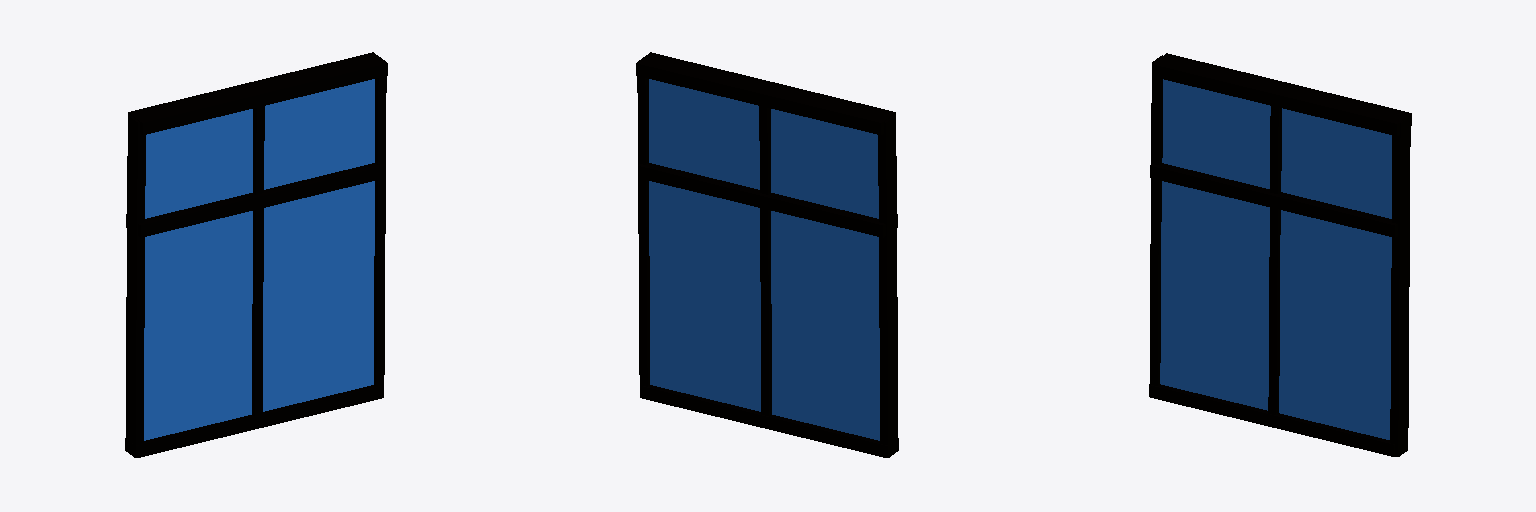
File: jendela.obj
3 renders of one model, left to right at view 1: azimuth 30°, elevation 25°; view 2: azimuth 150°, elevation 25°; view 3: azimuth 330°, elevation 25°, orthographic.
Visible parts, largest first — view 1: Cube.006, Cube.007, Cube.001, Cube.005, Cube.002, Cube, Cube.003, Cube.004; view 2: Cube.006, Cube.007, Cube.001, Cube.005, Cube.002, Cube, Cube.003, Cube.004; view 3: Cube.006, Cube.007, Cube.001, Cube.003, Cube.002, Cube, Cube.005, Cube.004.
Boxes of the visible parts, box(x1,y1,x2,y2) form: Cube.006: box(144, 181, 374, 440); Cube.007: box(145, 79, 374, 218); Cube.001: box(128, 52, 387, 134); Cube.005: box(126, 115, 145, 445); Cube.002: box(126, 163, 385, 237); Cube: box(125, 385, 381, 457); Cube.003: box(374, 76, 386, 397); Cube.004: box(252, 106, 264, 416); Cube.006: box(649, 181, 879, 440); Cube.007: box(649, 79, 878, 218); Cube.001: box(636, 52, 895, 134); Cube.005: box(878, 115, 897, 445); Cube.002: box(638, 163, 897, 237); Cube: box(642, 385, 898, 457); Cube.003: box(637, 76, 649, 397); Cube.004: box(759, 106, 771, 416); Cube.006: box(1160, 181, 1391, 439); Cube.007: box(1162, 79, 1391, 218); Cube.001: box(1152, 53, 1411, 135); Cube.003: box(1390, 116, 1410, 456); Cube.002: box(1150, 163, 1397, 237); Cube: box(1149, 384, 1394, 456); Cube.005: box(1150, 55, 1162, 385); Cube.004: box(1268, 106, 1281, 414).
Bounding box in the file's own units: 72.03 × 91.92 × 7.39.